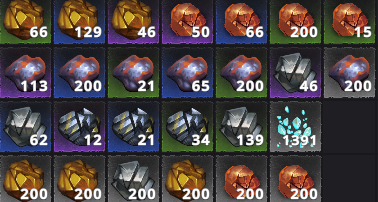aurelium ore: (163, 156, 213, 201), (56, 156, 104, 201), (108, 1, 159, 42), (3, 156, 49, 201), (54, 1, 103, 42), (1, 1, 49, 42)
copper ore: (271, 156, 319, 201), (218, 157, 265, 201), (162, 1, 211, 43), (217, 1, 266, 42), (271, 1, 320, 41), (326, 1, 373, 41)
ethereal dust: (272, 102, 319, 151)
iron ore: (109, 49, 158, 97), (1, 48, 49, 96), (217, 48, 266, 95), (325, 48, 373, 95), (163, 49, 211, 94), (56, 49, 103, 94)
silver ore: (1, 101, 50, 150), (272, 48, 319, 96), (219, 103, 265, 150), (110, 157, 158, 202)
tin ore: (109, 102, 158, 149), (55, 102, 103, 149), (163, 103, 211, 149)
